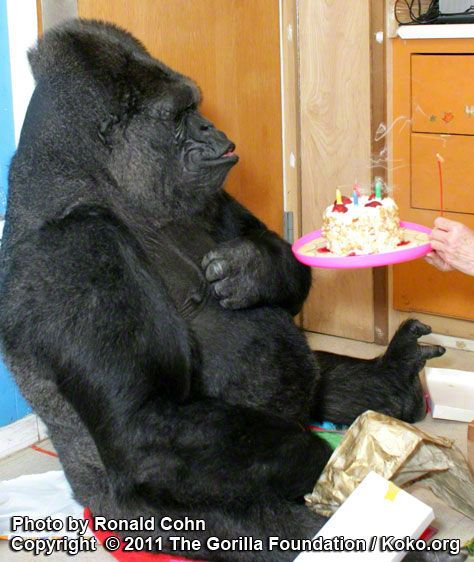Gorilla: (17, 39, 293, 479)
